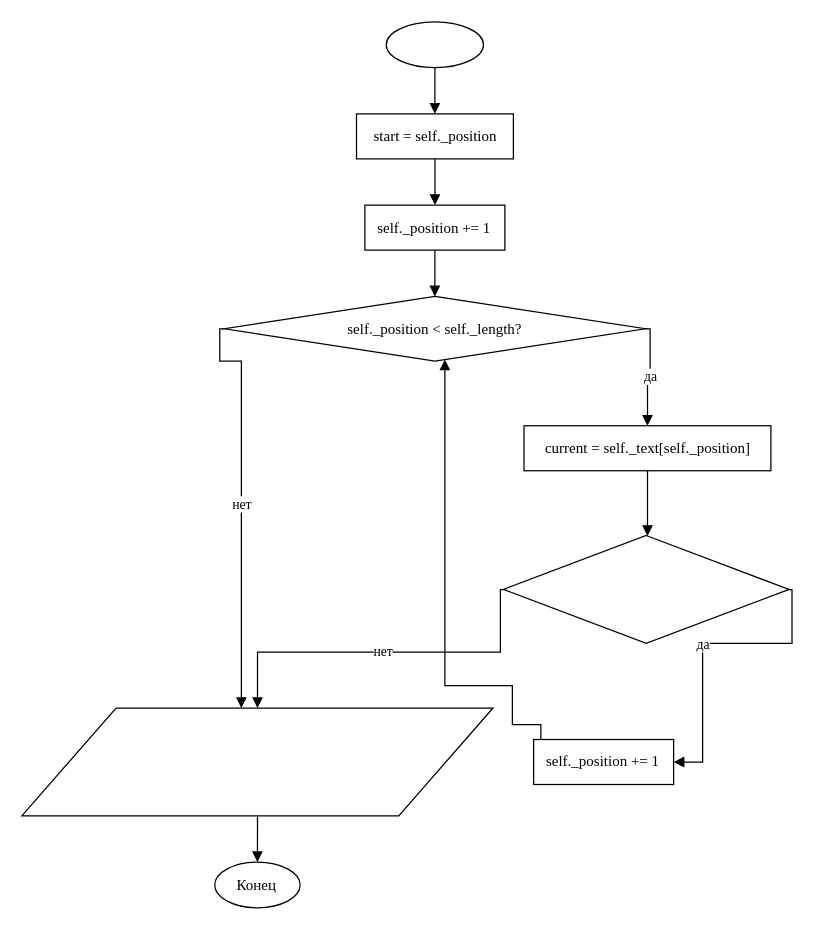
Some shapes in this 825 by 930 pixel diagram are drawn without their labels. Each missing label, with the centre of its shape:
current.isalnum() или current == '_'?: the point at 645,588
Возврат Token(IDENTIFIER, text[start:self._position], start): the point at 257,761
Начало: the point at 434,44
